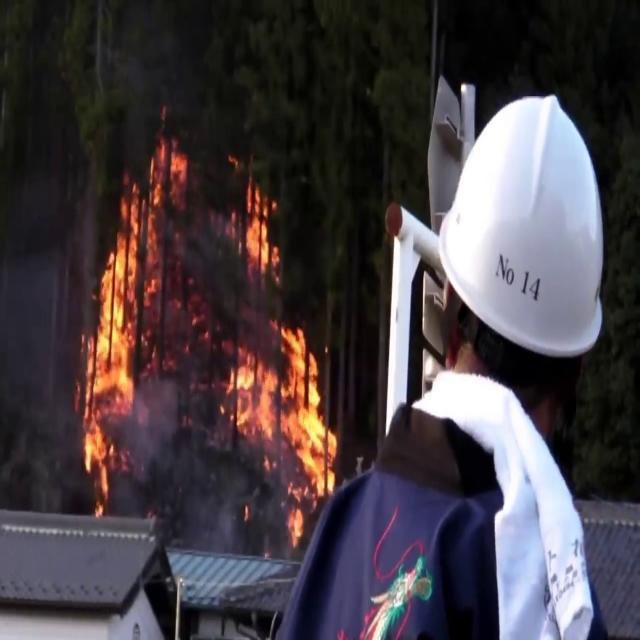Fire: (74, 155, 162, 505), (222, 306, 340, 516), (240, 166, 279, 281)
Smoke: (0, 156, 83, 502)
